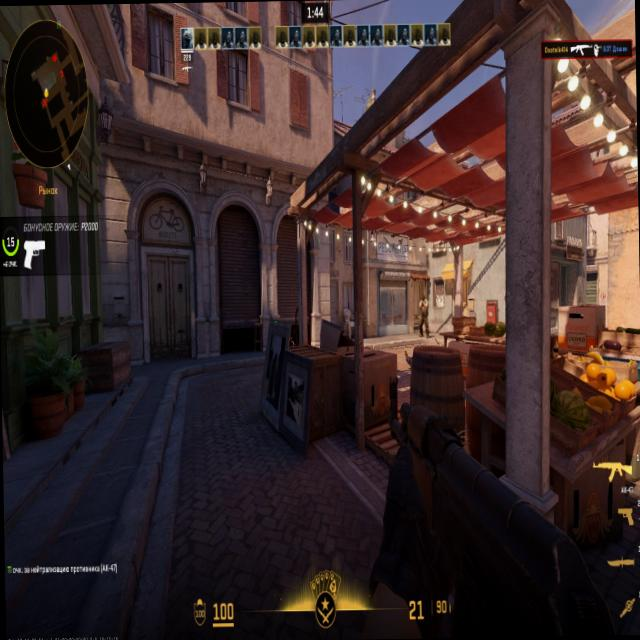T: (421, 292, 428, 331)
T_heat: (422, 294, 424, 304)
